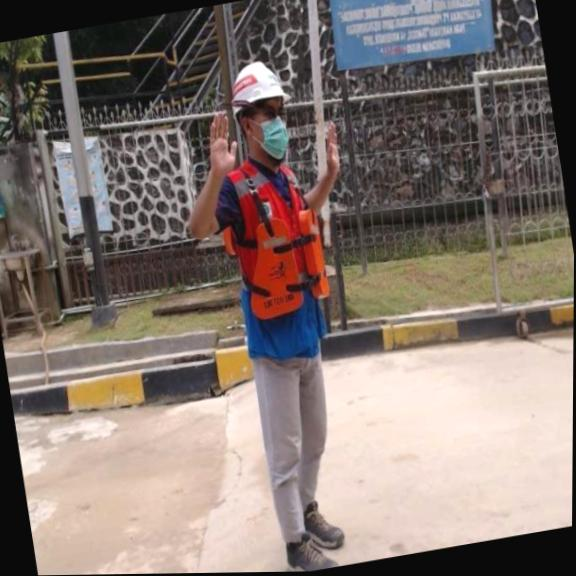safety_vest: (236, 206, 336, 322)
